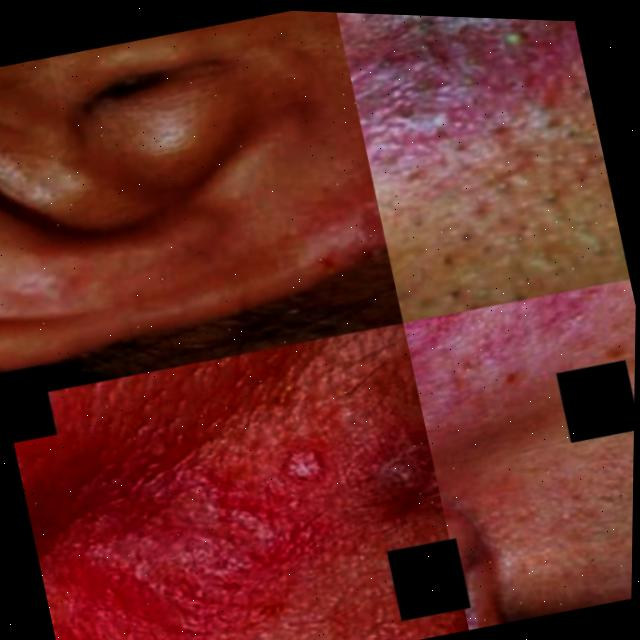lupus-detected: (2, 315, 472, 640), (195, 16, 407, 354), (330, 12, 616, 257), (400, 275, 636, 488), (435, 466, 557, 633)
